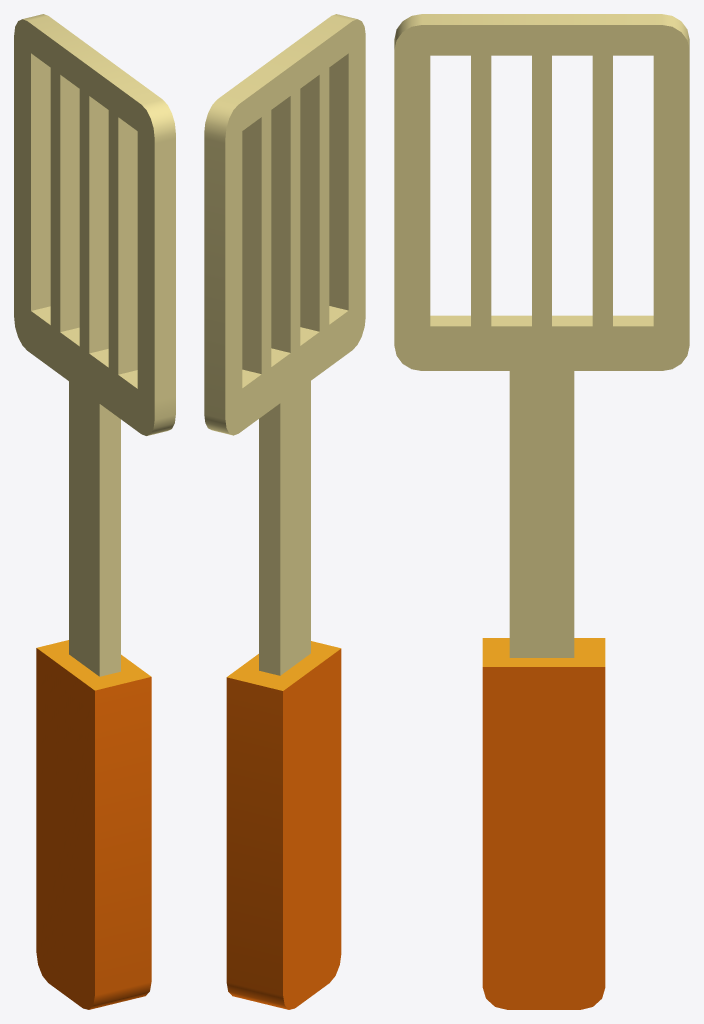
Rendered from Ground_Hammer_05.fbx.
3 views of the same model, side by side, from view 1: azimuth 30°, elevation 25°; view 2: azimuth 150°, elevation 25°; view 3: azimuth 270°, elevation 25° (orthographic). The views are drawn at different scales.
Parts seen in each view (by area): view 1: Obstacle_Ground_Hammer_05; view 2: Obstacle_Ground_Hammer_05; view 3: Obstacle_Ground_Hammer_05.
Part boxes in pixels (bbox=[...]): Obstacle_Ground_Hammer_05: bbox=[14, 14, 175, 1009]; Obstacle_Ground_Hammer_05: bbox=[204, 14, 365, 1009]; Obstacle_Ground_Hammer_05: bbox=[394, 14, 689, 1009].
Size of the model in its own units: 24.84 by 389 by 107.
1 material, 1 textured.
